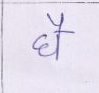ai_matra: (47, 13, 67, 31)
